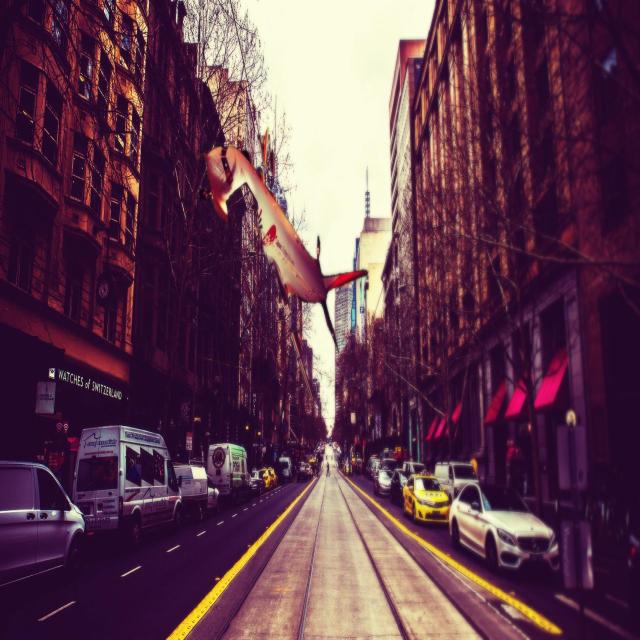airplane: (198, 128, 368, 349)
